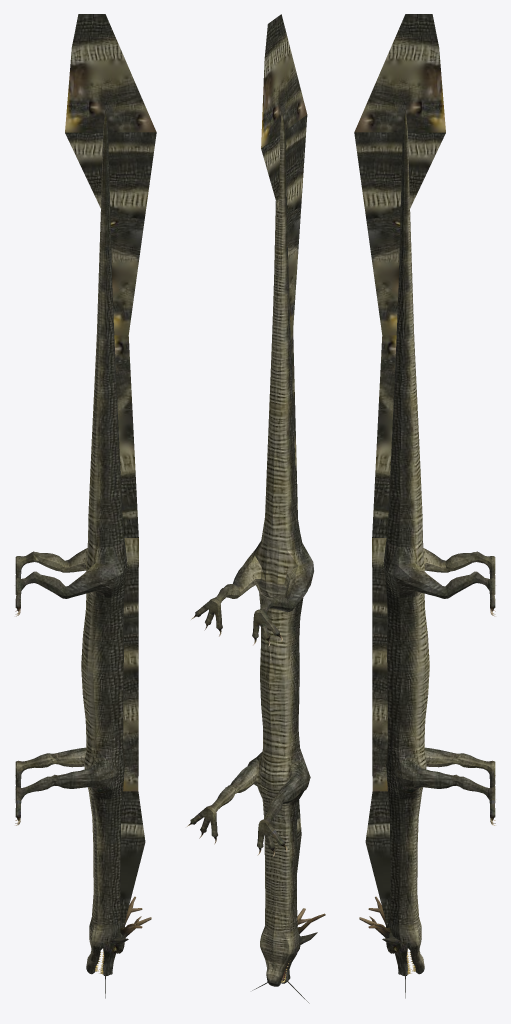
File: black_dragon.glb
3 views of the same model, side by side, from view 1: azimuth 90°, elevation 25°; view 2: azimuth 150°, elevation 25°; view 3: azimuth 270°, elevation 25° (orthographic).
Parts seen in each view (by area): view 1: black_dragon.obj; view 2: black_dragon.obj; view 3: black_dragon.obj.
Boxes of the visible parts, x1,y1,x2,y2 form: black_dragon.obj: [15, 14, 156, 998]; black_dragon.obj: [187, 14, 325, 1003]; black_dragon.obj: [354, 14, 495, 998].
Bounding box in the file's own units: 0.1004 × 0.945 × 0.1246.
1 material, 1 textured.
